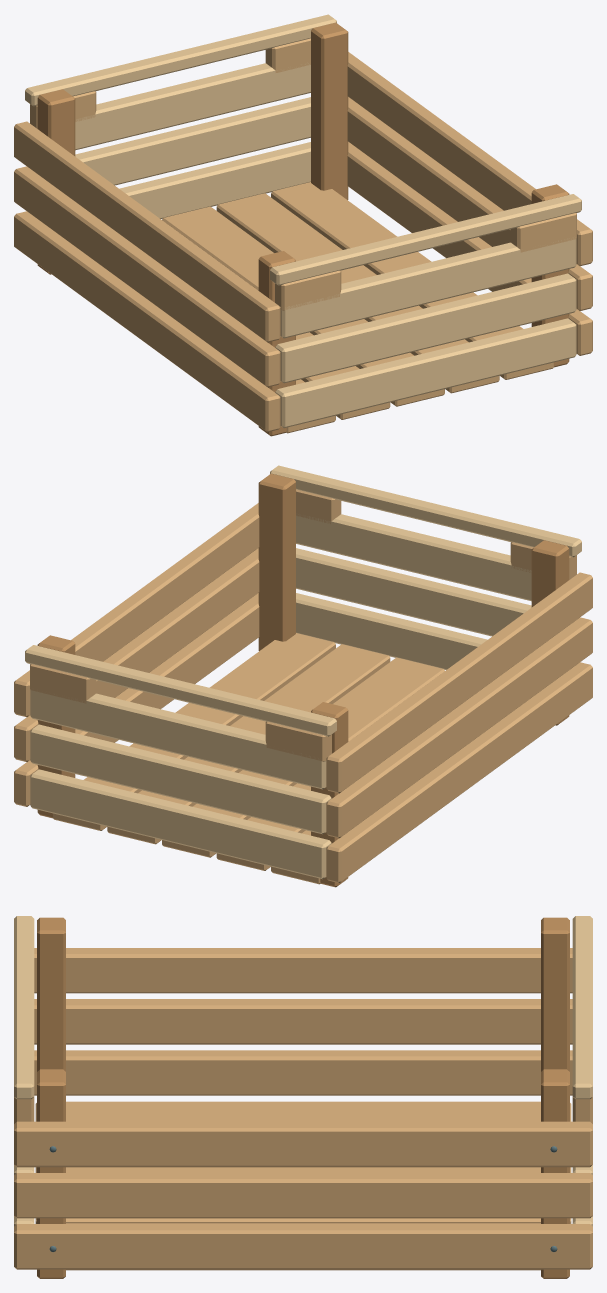
Rendered from cagette.glb.
3 renders of one model, top to bottom at view 1: azimuth 30°, elevation 25°; view 2: azimuth 150°, elevation 25°; view 3: azimuth 270°, elevation 25°, orthographic. The views are drawn at different scales.
Parts seen in each view (by area): view 1: cagette; view 2: cagette; view 3: cagette.
Part boxes in pixels (<box>): cagette: <box>14,14,592,436</box>; cagette: <box>14,465,592,887</box>; cagette: <box>14,916,592,1278</box>.
Size of the model in its own units: 0.3 by 0.15 by 0.4.
